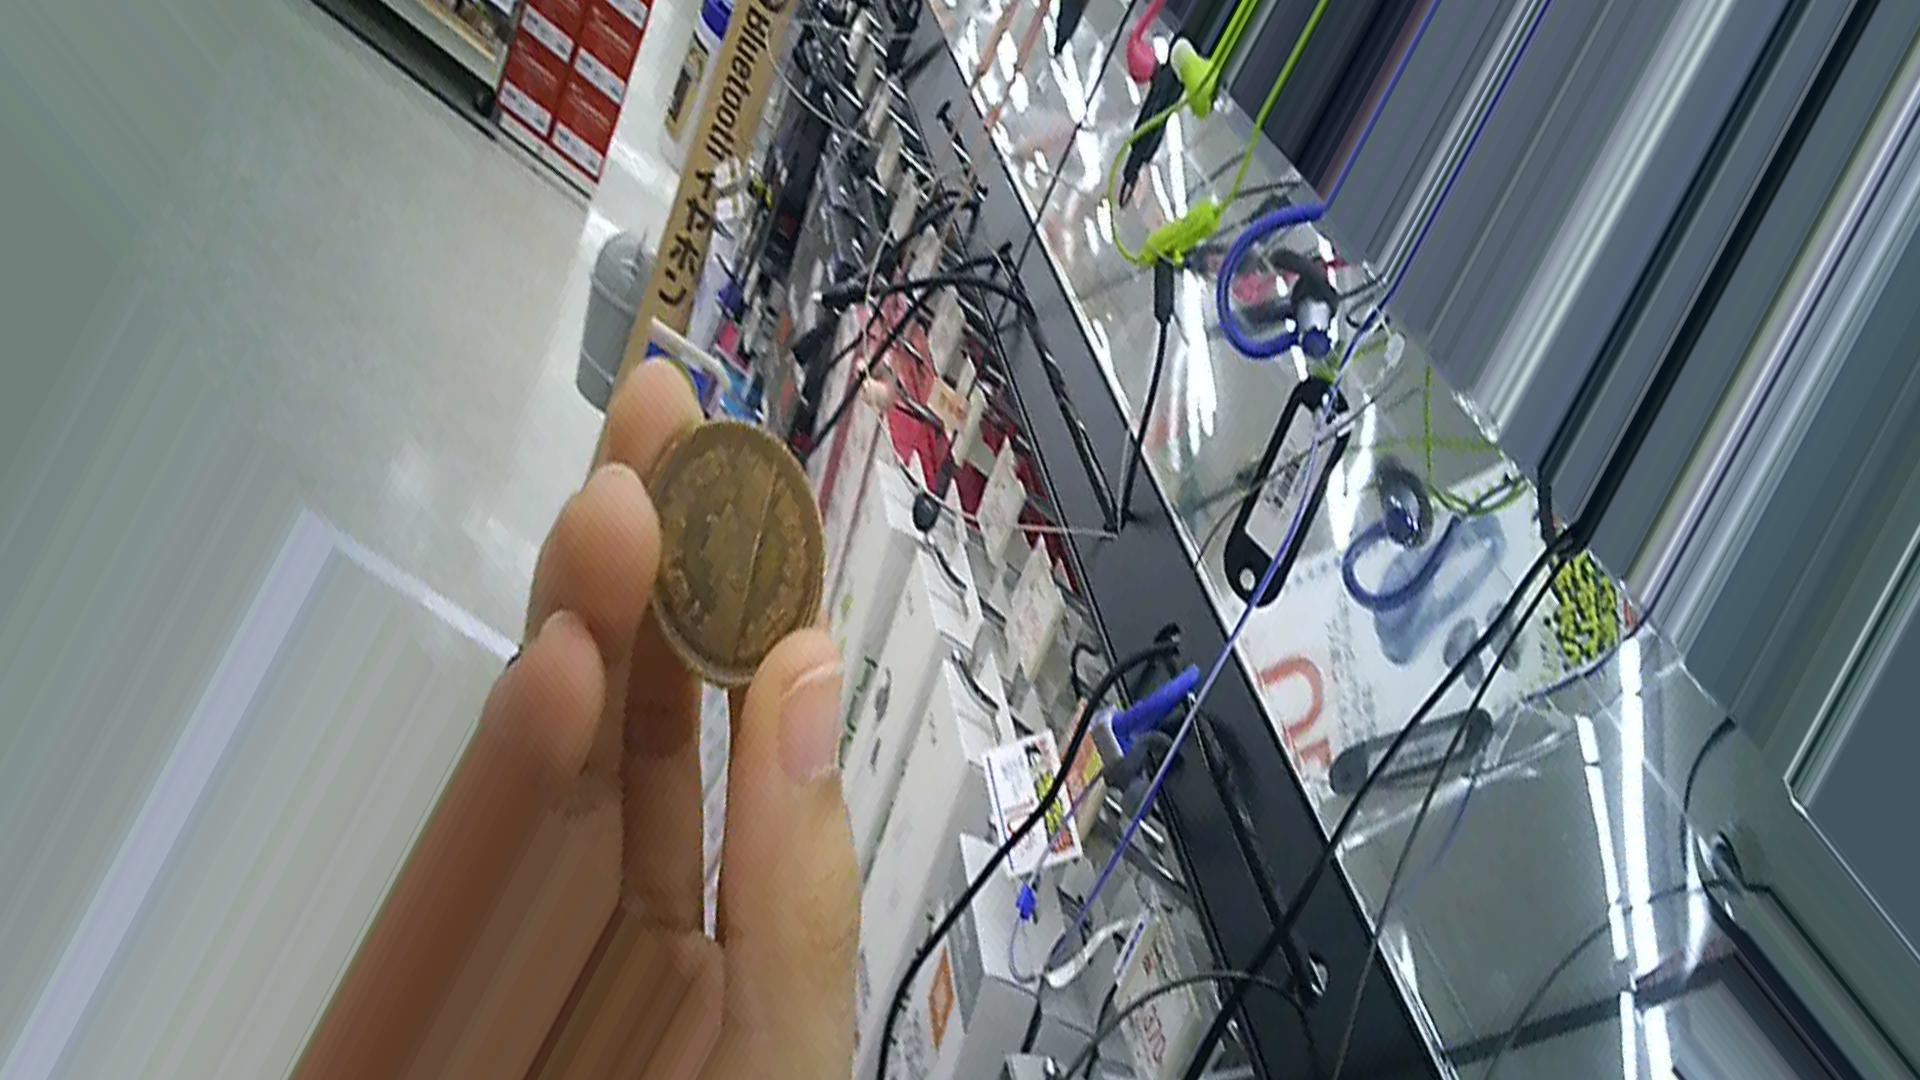10 Yen: (632, 413, 829, 703)
